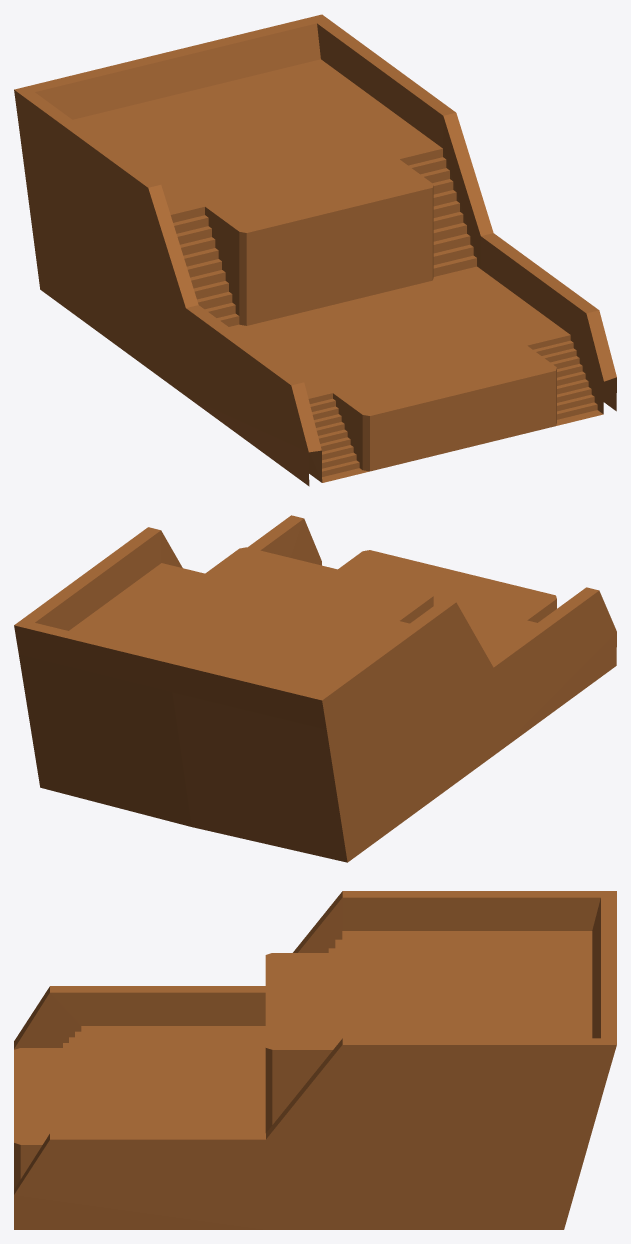
File: ship_tail_top.fbx
3 renders of one model, top to bottom at view 1: azimuth 30°, elevation 25°; view 2: azimuth 150°, elevation 25°; view 3: azimuth 270°, elevation 25°, orthographic. The views are drawn at different scales.
Visible parts, largest first — view 1: ship_top_tail, Stairs, StarisLow; view 2: ship_top_tail; view 3: ship_top_tail.
Boxes of the visible parts, x1,y1,x2,y2 form: ship_top_tail: [14, 14, 616, 486]; Stairs: [170, 149, 476, 326]; StarisLow: [308, 335, 599, 479]; ship_top_tail: [14, 515, 616, 862]; ship_top_tail: [14, 891, 616, 1229].
Bounding box in the file's own units: 3.42 × 1.92 × 5.67.
